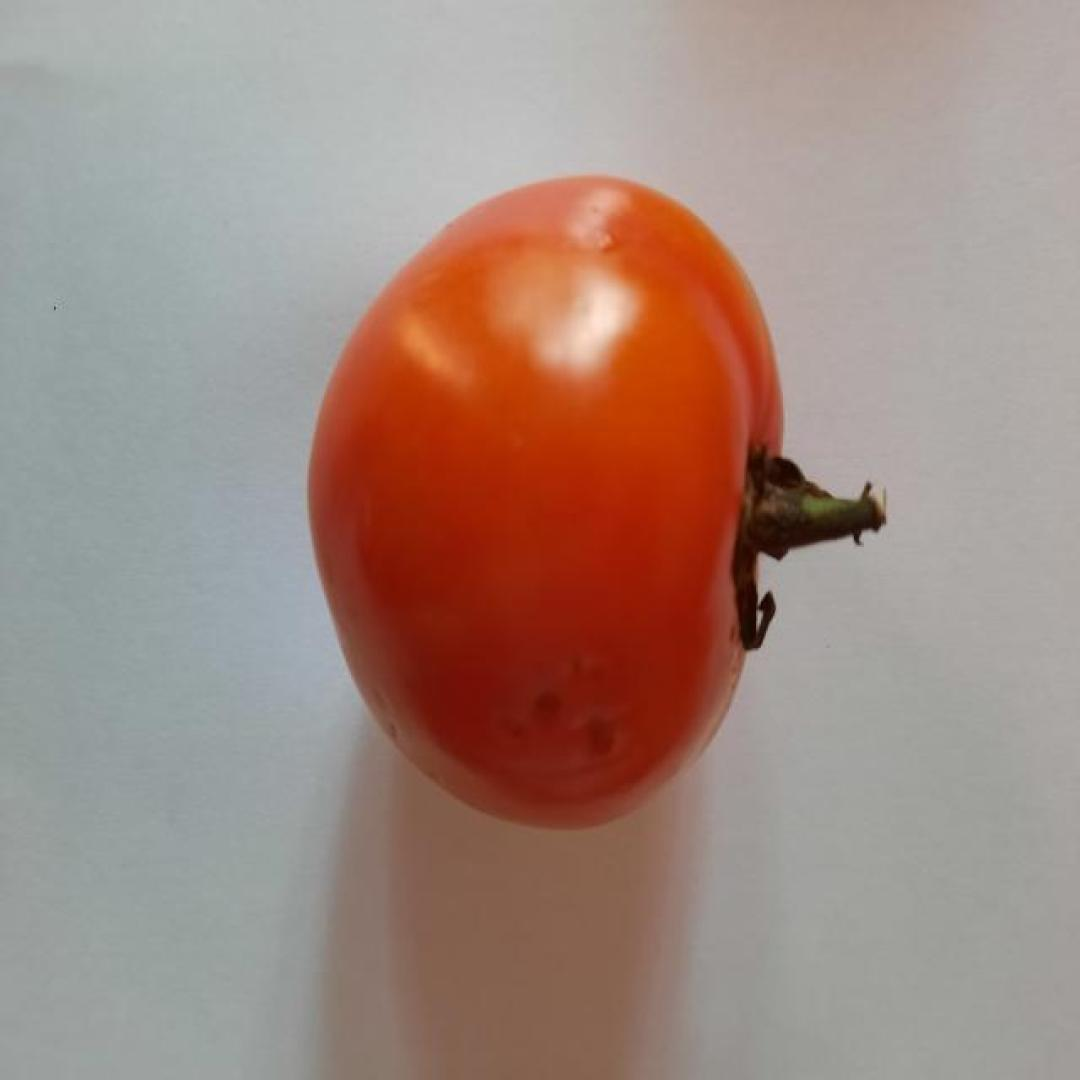matang: (305, 169, 890, 834)
